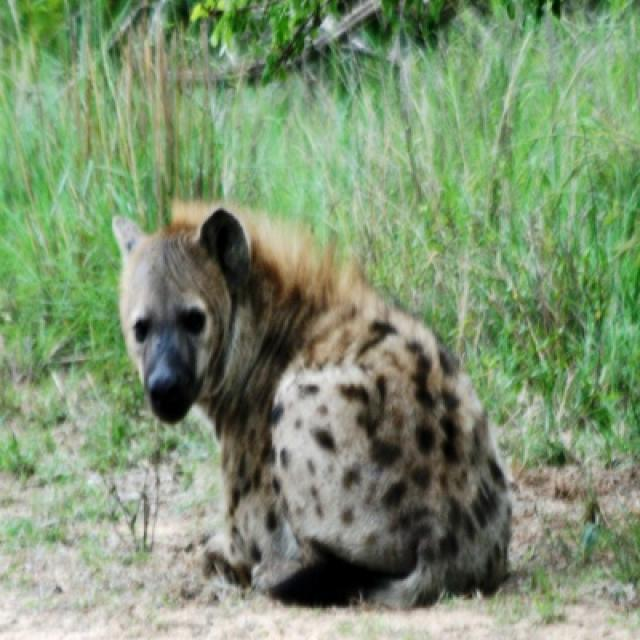hyena: (114, 202, 509, 606)
